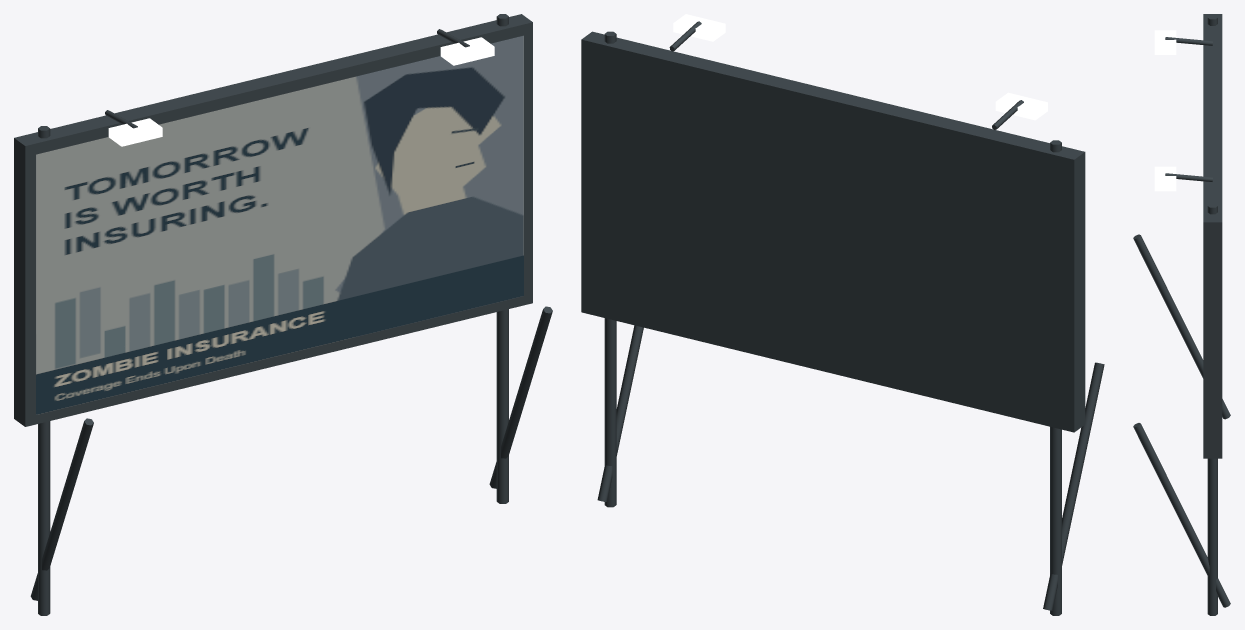
Rendered from la-billboard.glb.
3 renders of one model, left to right at view 1: azimuth 30°, elevation 25°; view 2: azimuth 150°, elevation 25°; view 3: azimuth 270°, elevation 25°, orthographic. The views are drawn at different scales.
Visible parts, largest first — view 1: la-billboard; view 2: la-billboard; view 3: la-billboard.
Boxes of the visible parts, x1=… form: la-billboard: x1=14, y1=14, x2=552, y2=615; la-billboard: x1=581, y1=14, x2=1104, y2=615; la-billboard: x1=1133, y1=14, x2=1230, y2=615.
Bounding box in the file's own units: 5.2 × 4.83 × 1.03.
3 materials, 1 textured.
